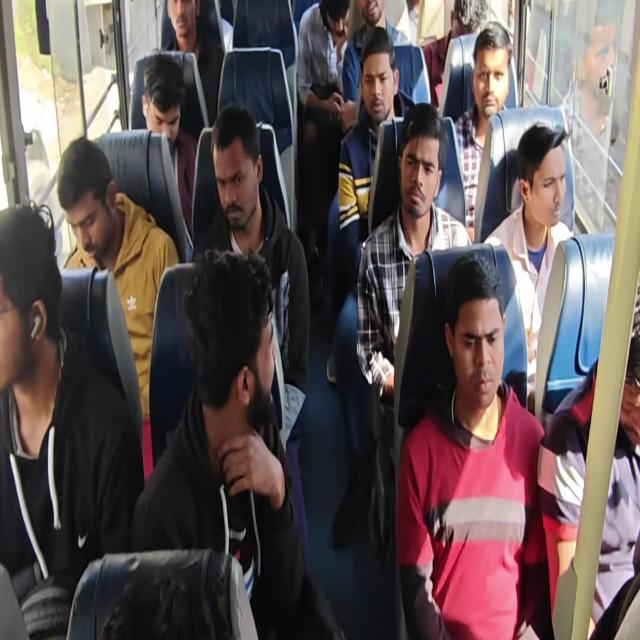person: (1, 1, 638, 638), (130, 247, 343, 638), (0, 199, 145, 638), (396, 252, 554, 638), (190, 101, 311, 568), (328, 26, 416, 546), (538, 271, 640, 638), (56, 135, 180, 422), (356, 101, 472, 405), (483, 121, 574, 369), (337, 26, 416, 258), (296, 0, 354, 301), (452, 21, 512, 240), (140, 53, 198, 241), (101, 565, 217, 639), (163, 0, 224, 126), (342, 0, 412, 105), (422, 0, 488, 109)
